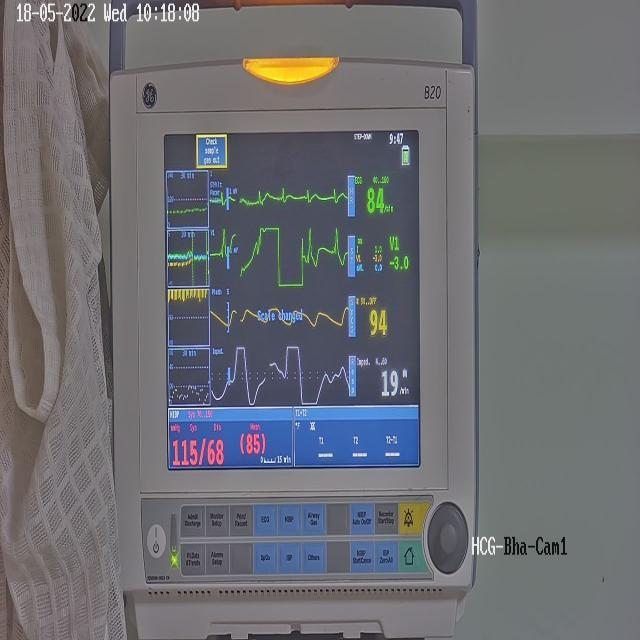Monitor: (110, 48, 478, 615)
